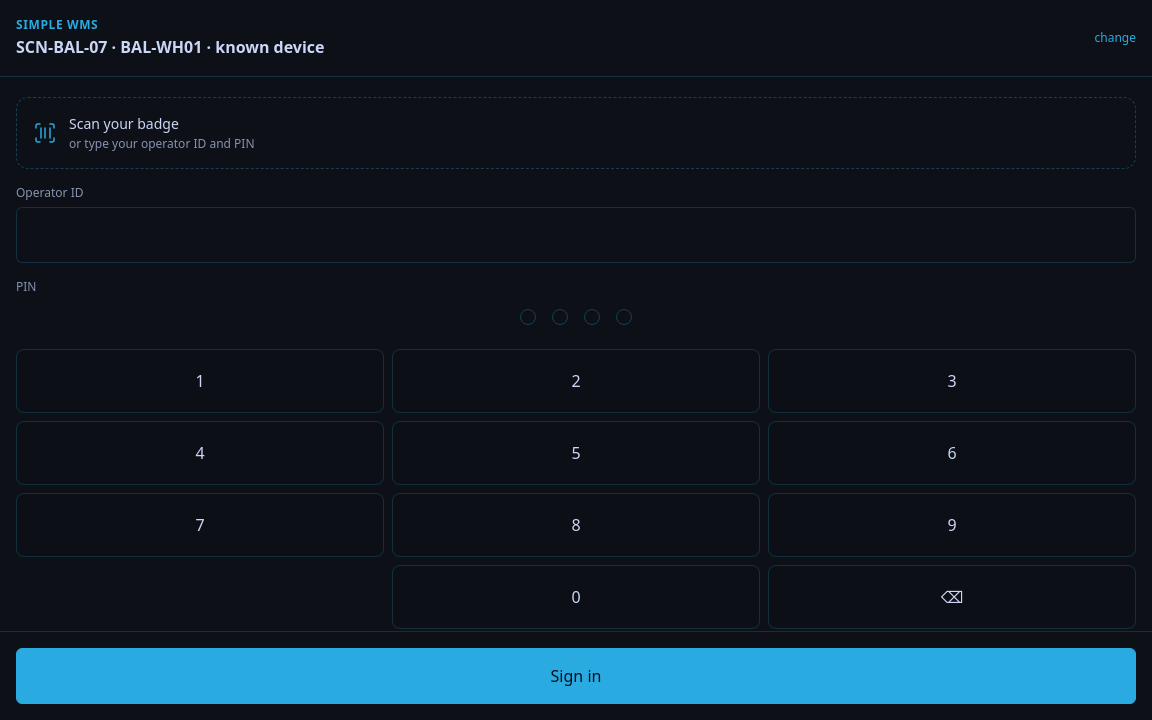
it: SignIn › shows a wrong PIN in a notice and clears the PIN
Type "op-017" into the field labelled "Operator ID" at (576, 235), box [16,207,1136,263]
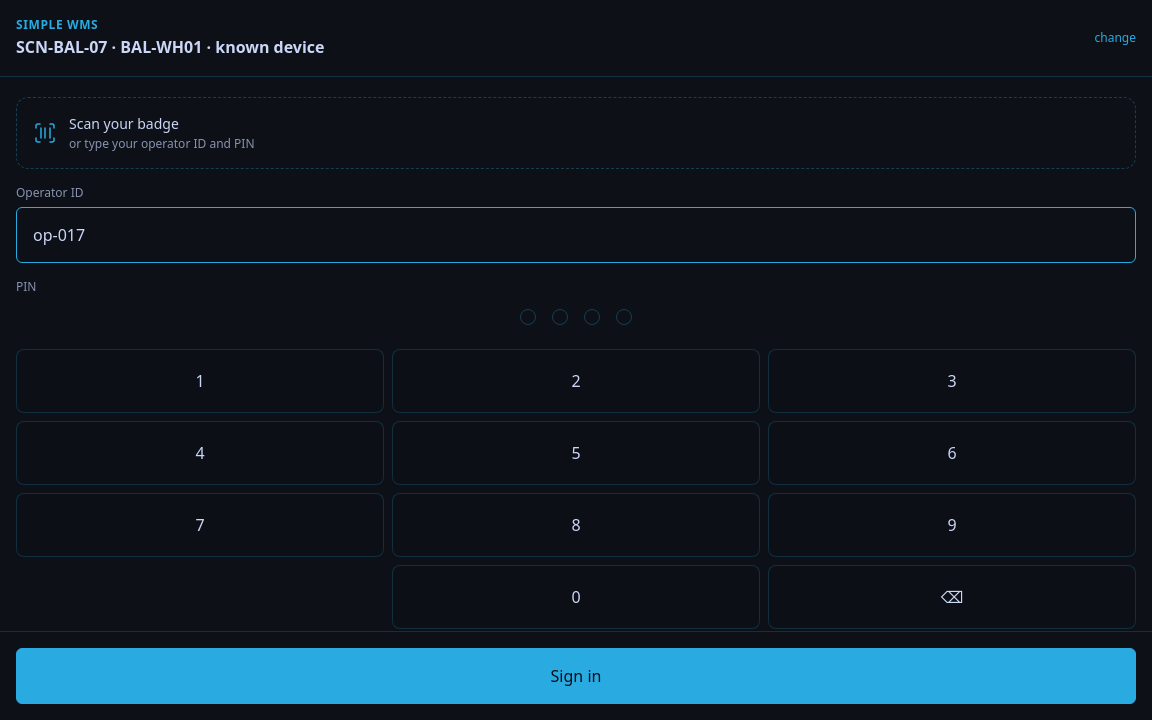
Click the button "9" at (952, 525), box [768,493,1136,557]
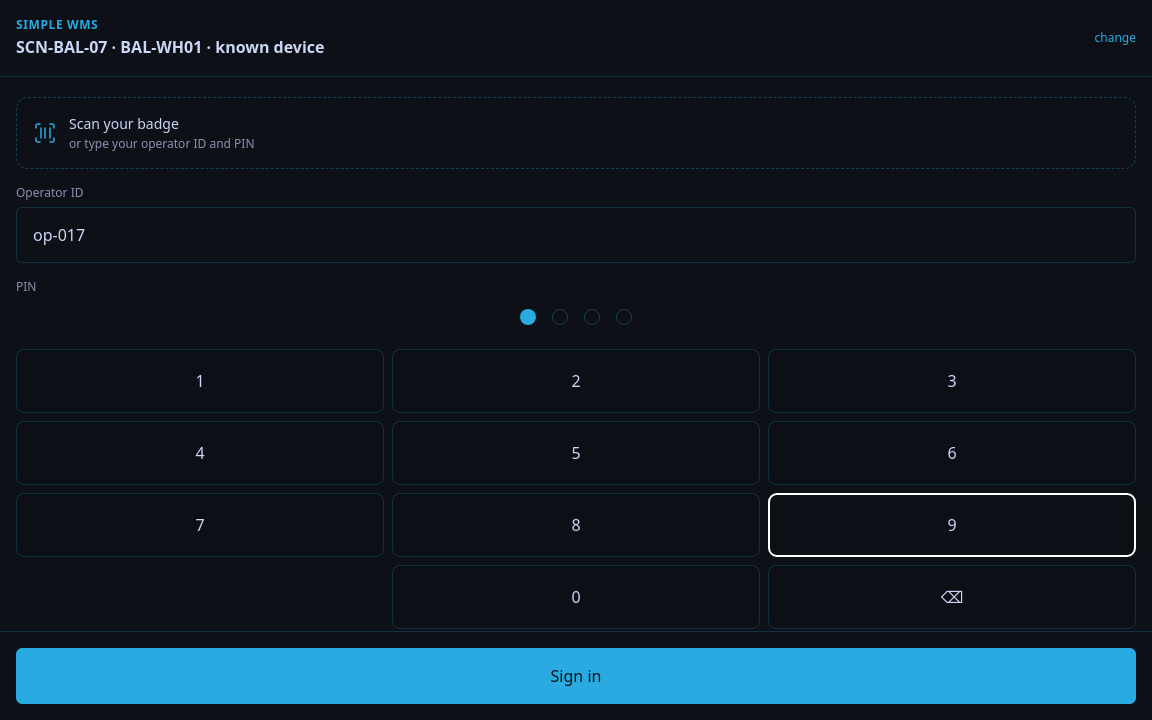
Click the button "Sign in" at (576, 676), box [16,648,1136,704]
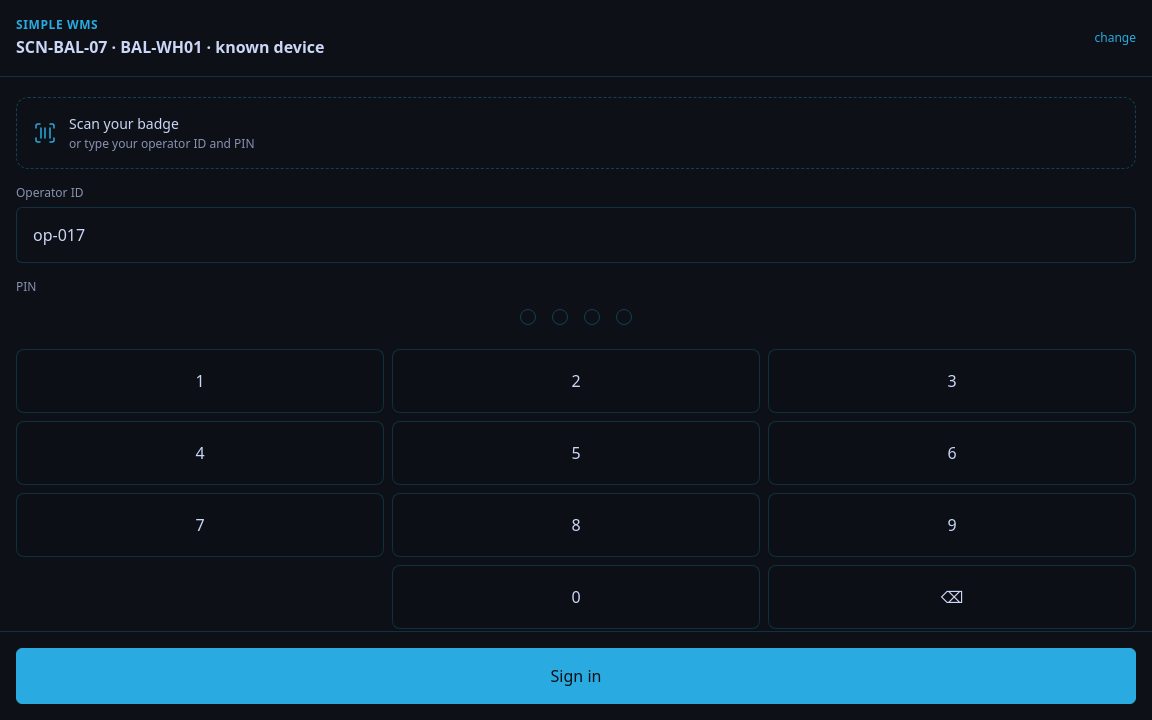
Expected: the picture named "0 digits entered" is shown, [520,309,632,325]
